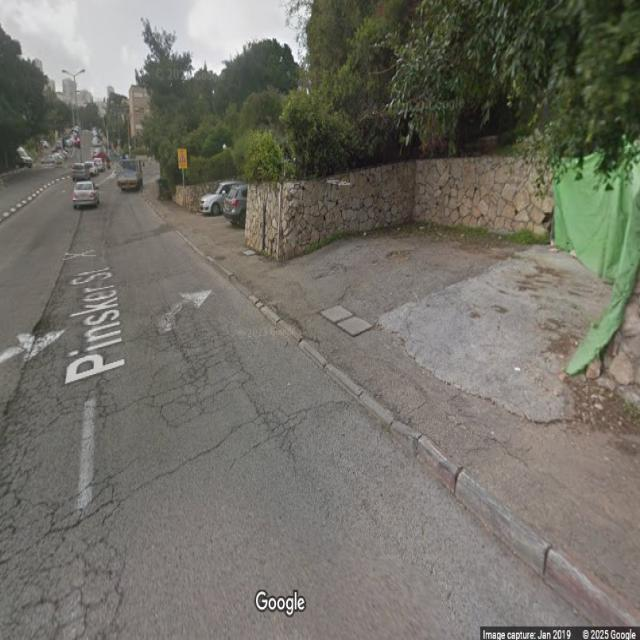medium_pothole: (31, 319, 49, 338)
